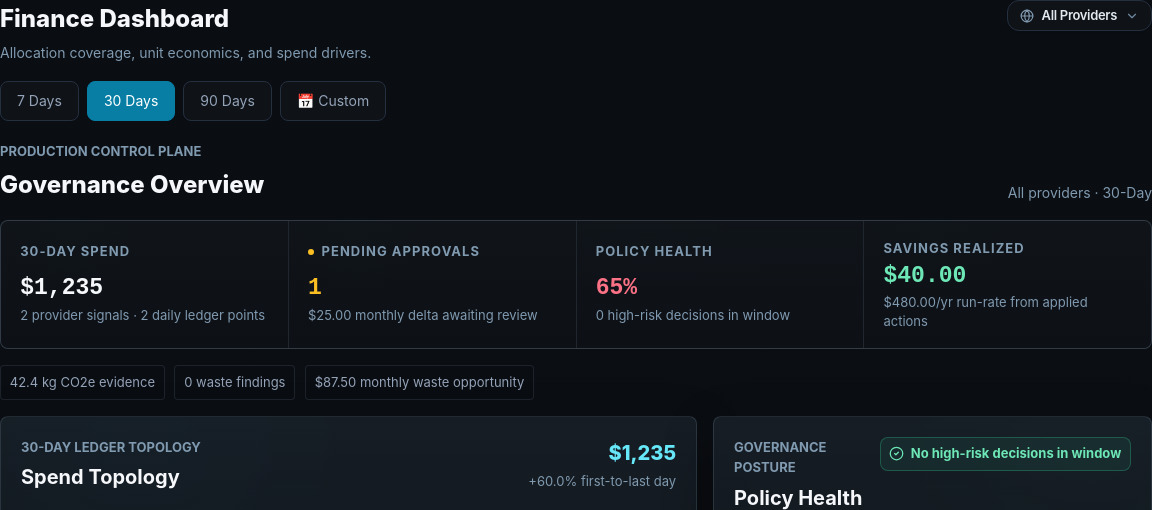
Scenario: dashboard page lazy sections › offers AI in the dashboard spend provider selector
This screenshot has width=1152, height=510.
Click the button "All Providers": (1079, 16) [1007,0,1151,31]
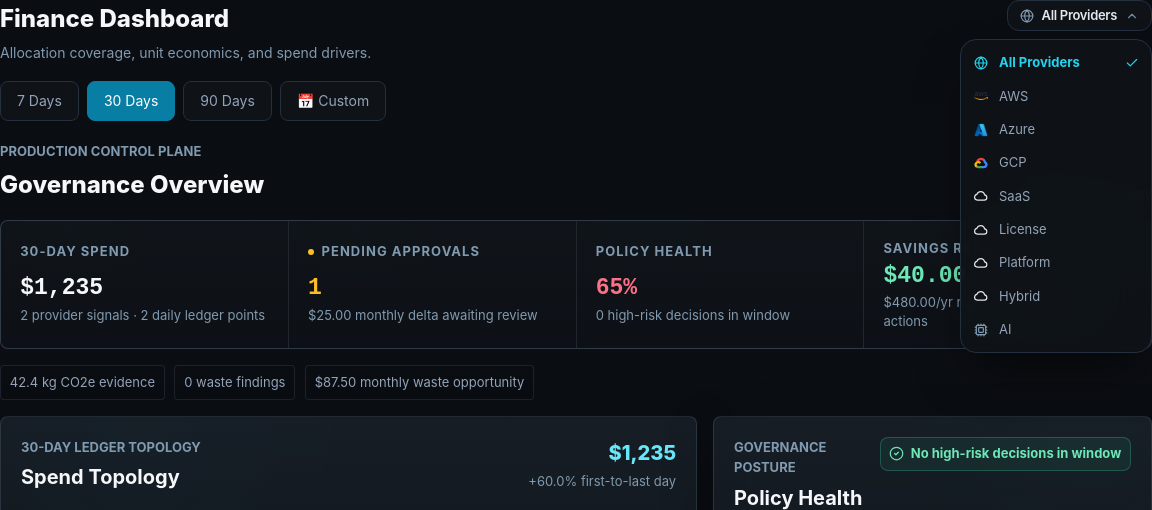
Now the option "AI" is shown, box [961,313,1151,346]
